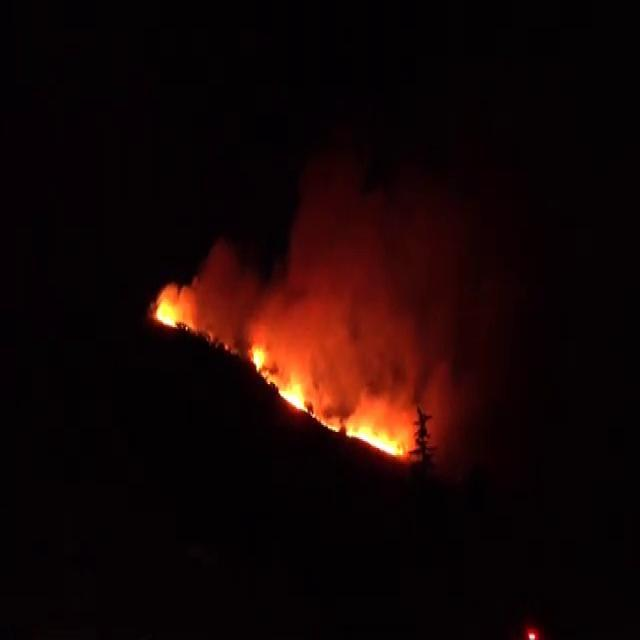Fire: (315, 403, 404, 457), (152, 295, 180, 329), (275, 386, 311, 412), (249, 345, 267, 375)
Smoke: (144, 168, 493, 476)
